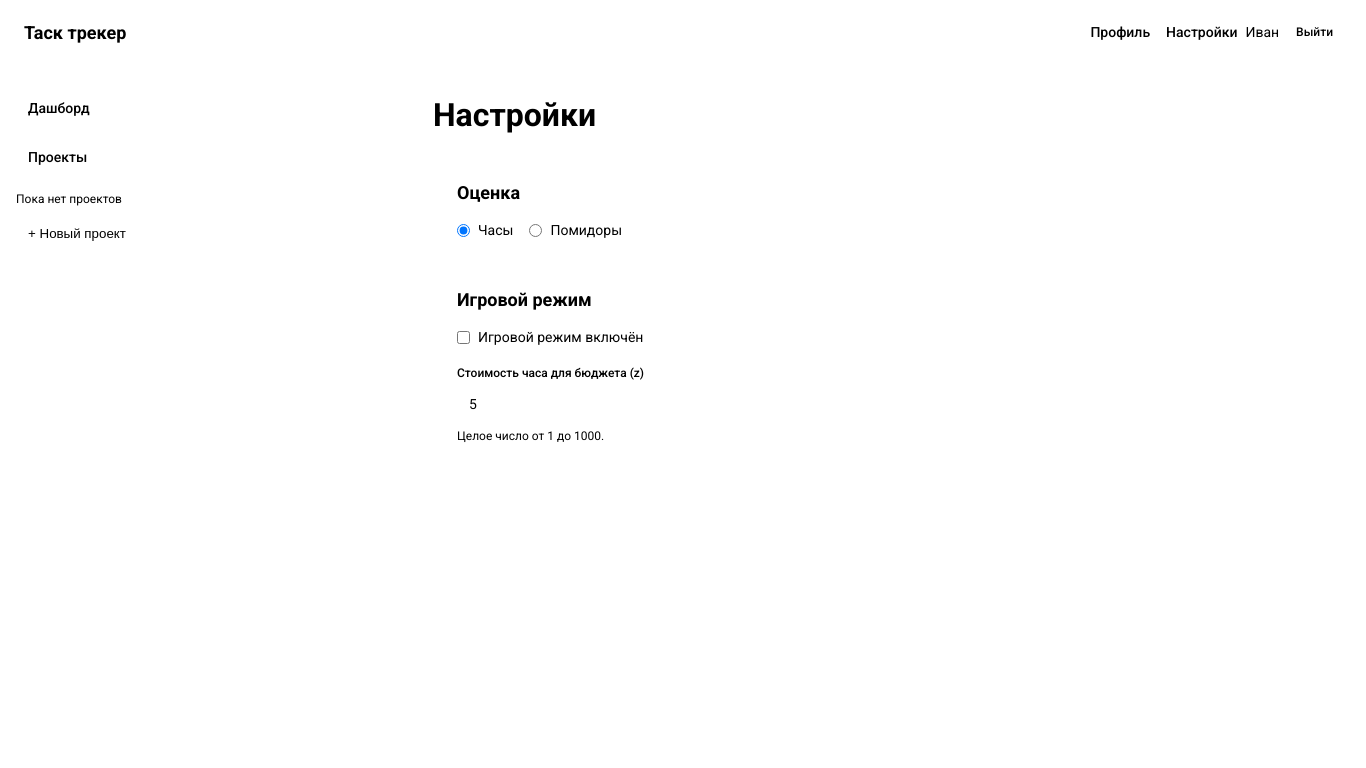
Test: SettingsPage › FE-07: показывает длительность только для помидоров
Expected: the heading "Оценка" is shown, [457, 182, 520, 203]
Expected: the field labelled "Длительность помидора (мин)" is not shown
Step 1. Click the radio button labelled "Помидоры" → click(536, 230), box [529, 224, 542, 237]
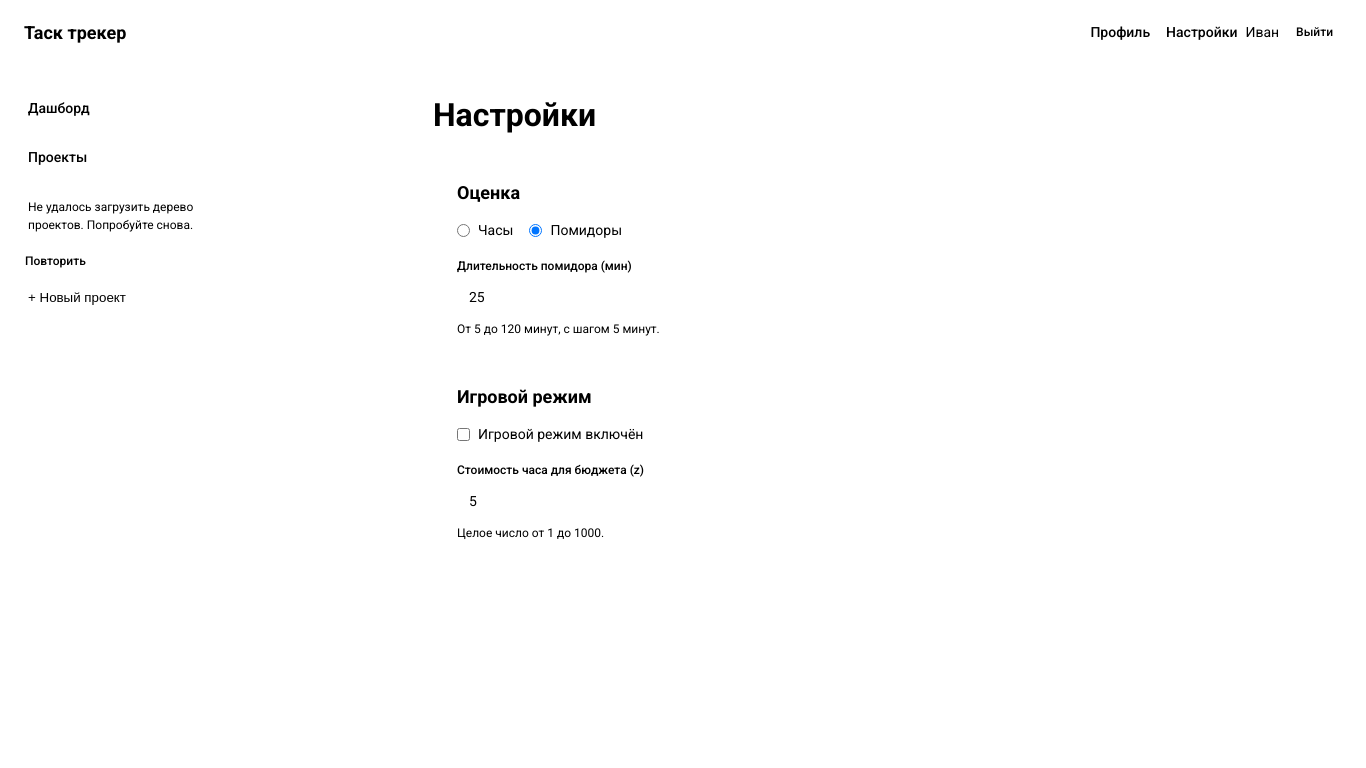
Now the number field labelled "Длительность помидора (мин)" is shown, box [457, 279, 1169, 316]
Step 2. Click the radio button labelled "Часы" → click(464, 230), box [457, 224, 470, 237]
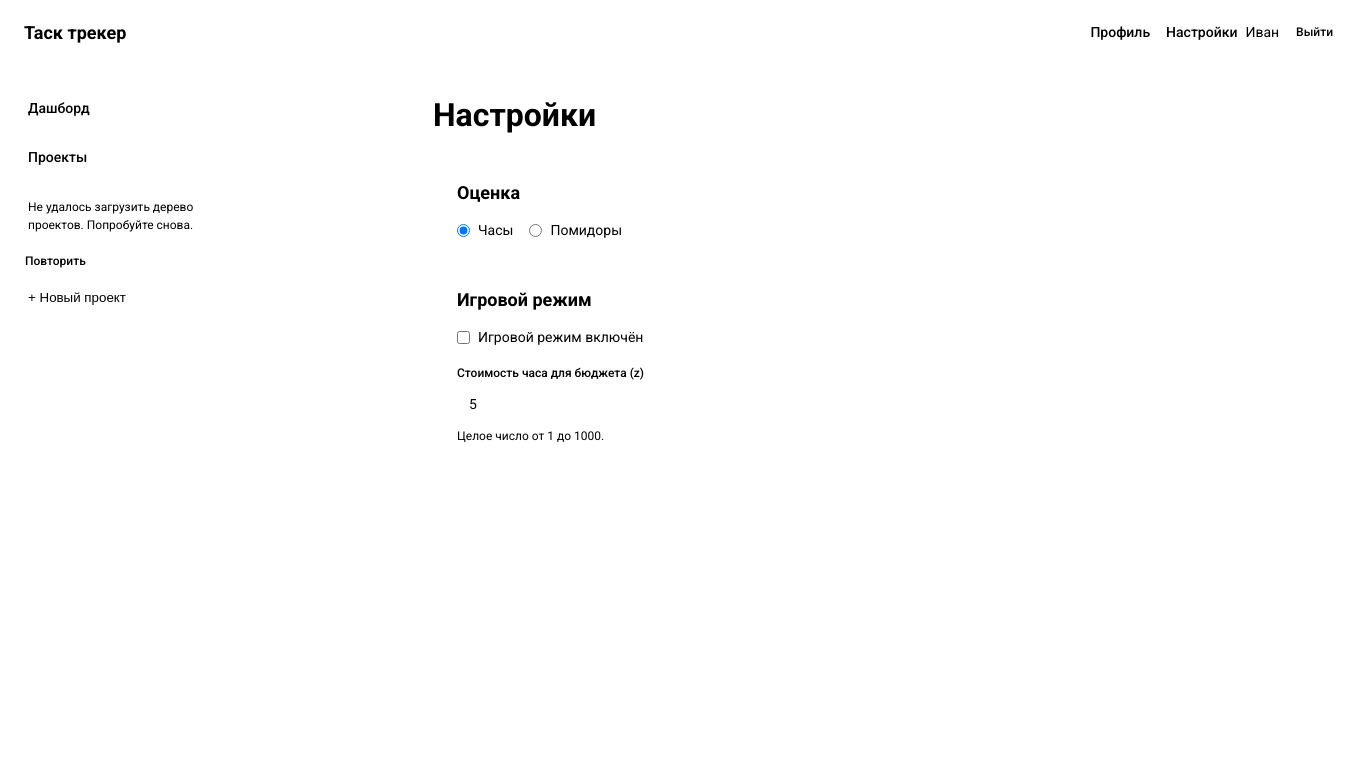
Now the label labelled "Длительность помидора (мин)" is gone
